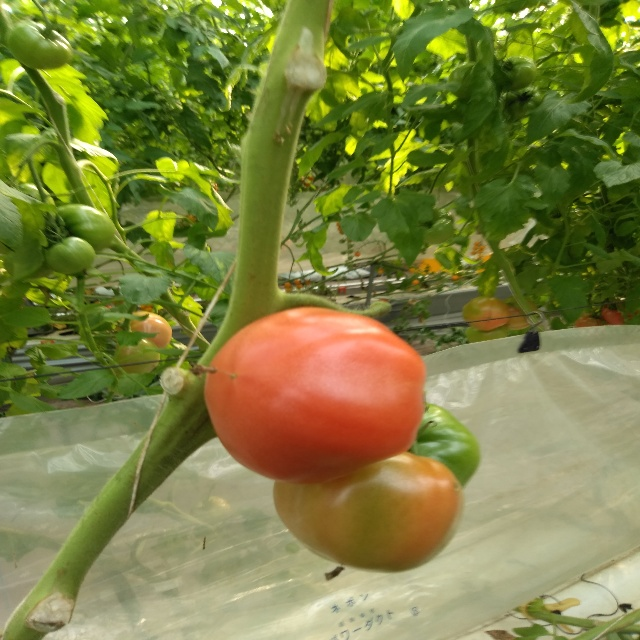b_green: (408, 404, 483, 489), (7, 21, 72, 70), (54, 204, 116, 253), (110, 336, 161, 376), (45, 235, 95, 275), (503, 56, 536, 92)
b_half_ripened: (202, 306, 426, 484), (274, 451, 463, 574), (116, 311, 172, 349), (460, 295, 509, 332), (502, 296, 537, 329)
